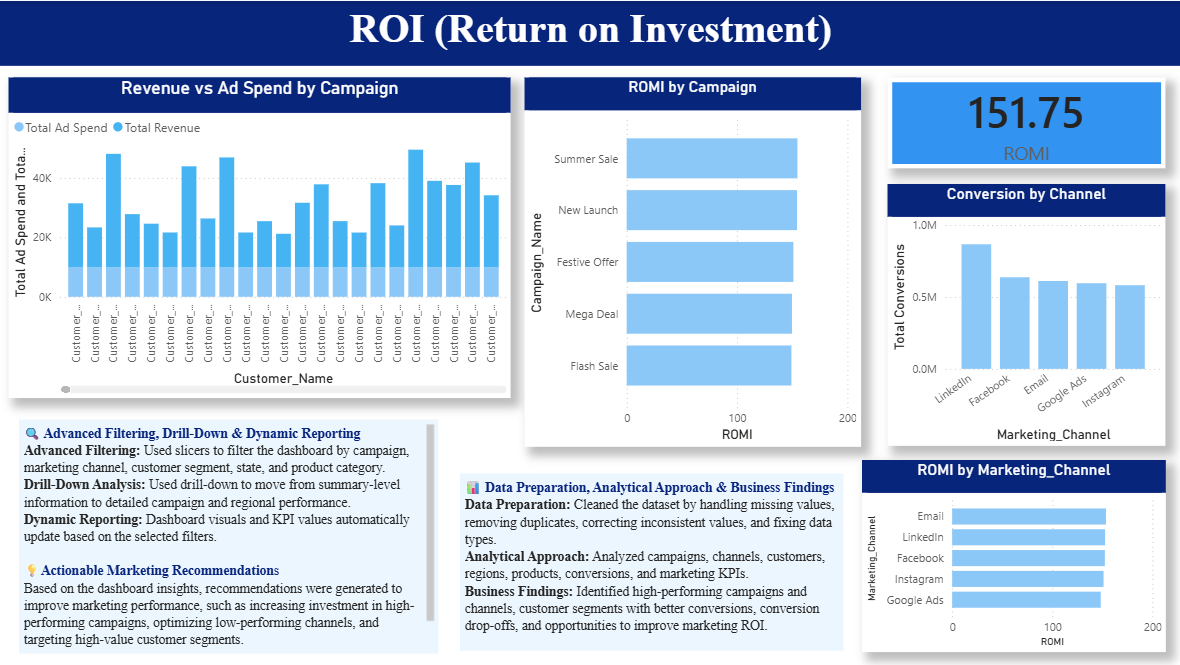

The dashboard page shown, as its layout file describes it:
{"tool":"powerbi","page":{"name":"ROI_Analytics","canvas":[1280,720],"ordinal":1},"visuals":[{"type":"textbox","box":[0,0,1279.4,70.2],"z":0},{"type":"textbox","box":[10,570,280,150],"z":2},{"type":"columnChart","title":"Revenue vs Ad Spend by Campaign","fields":{"Category":["Marketing_Dataset_PowerBI.Customer_Name"],"Y":["Marketing_Dataset_PowerBI.Total Ad Spend","Marketing_Dataset_PowerBI.Total Revenue"]},"box":[10.5,82.5,542.3,345.7],"z":3},{"type":"barChart","title":"ROMI by Campaign","fields":{"Category":["Marketing_Dataset_PowerBI.Campaign_Name"],"Y":["Marketing_Dataset_PowerBI.ROMI"]},"box":[568.6,82.5,363.3,398.4],"z":4},{"type":"clusteredBarChart","fields":{"Category":["Marketing_Dataset_PowerBI.Marketing_Channel"],"Y":["Marketing_Dataset_PowerBI.ROMI"]},"box":[931.9,494.9,328.2,207.1],"z":5},{"type":"cardVisual","fields":{"Data":["Marketing_Dataset_PowerBI.ROMI"]},"box":[960,82.5,300.1,98.3],"z":6},{"type":"columnChart","title":"Conversion by Channel","fields":{"Category":["Marketing_Dataset_PowerBI.Marketing_Channel"],"Y":["Marketing_Dataset_PowerBI.Total Conversions"]},"box":[960,198.3,300.1,282.6],"z":7},{"type":"textbox","box":[22.8,451,452.8,252.7],"z":8},{"type":"textbox","box":[498.4,510.7,414.2,191.3],"z":9}]}

Visuals, with their boxes in screenshot pixels (x1, y1, x2, y2), scaled from the page's 1280x720 canvas onto the 1180x665 screenshot:
textbox: [x1=0, y1=0, x2=1179, y2=65]
textbox: [x1=9, y1=526, x2=267, y2=664]
"Revenue vs Ad Spend by Campaign" columnChart: [x1=10, y1=76, x2=510, y2=395]
"ROMI by Campaign" barChart: [x1=524, y1=76, x2=859, y2=444]
clusteredBarChart - Marketing_Dataset_PowerBI.Marketing_Channel x Marketing_Dataset_PowerBI.ROMI: [x1=859, y1=457, x2=1162, y2=648]
cardVisual - Marketing_Dataset_PowerBI.ROMI: [x1=885, y1=76, x2=1162, y2=167]
"Conversion by Channel" columnChart: [x1=885, y1=183, x2=1162, y2=444]
textbox: [x1=21, y1=417, x2=438, y2=650]
textbox: [x1=459, y1=472, x2=841, y2=648]
